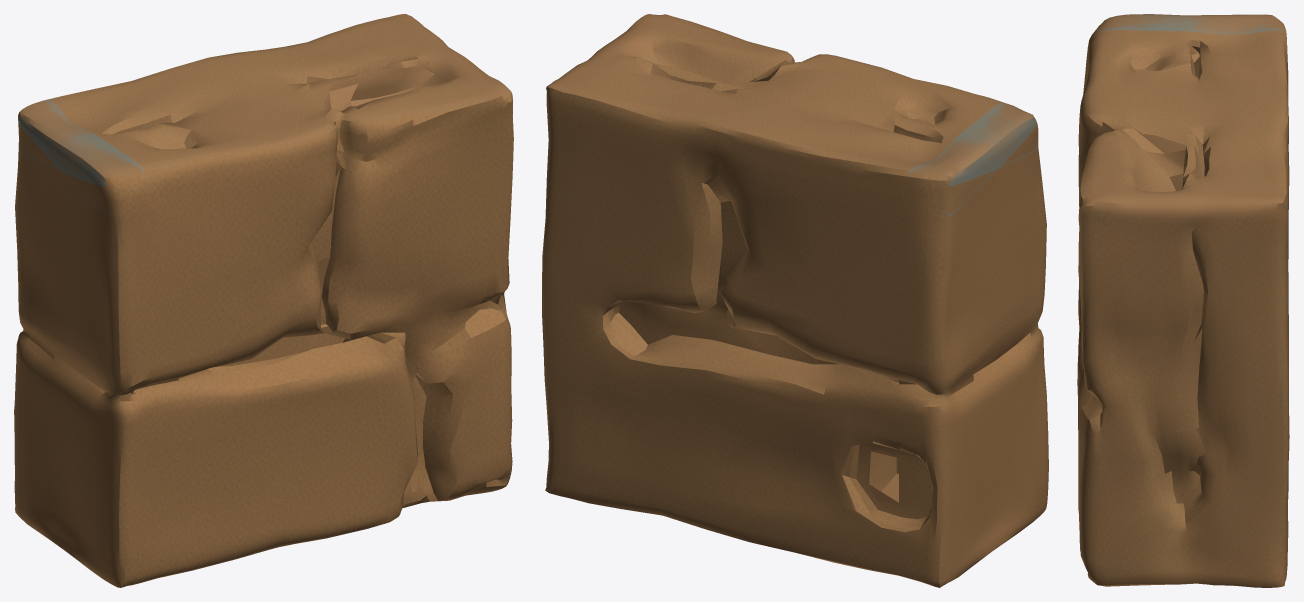
The model's file is brick_std_sandstone.glb.
3 renders of one model, left to right at view 1: azimuth 30°, elevation 25°; view 2: azimuth 150°, elevation 25°; view 3: azimuth 270°, elevation 25°, orthographic. The views are drawn at different scales.
Parts seen in each view (by area): view 1: Mesh_0; view 2: Mesh_0; view 3: Mesh_0.
Part boxes in pixels (<box>): Mesh_0: <box>14,14,513,587</box>; Mesh_0: <box>542,14,1048,587</box>; Mesh_0: <box>1077,14,1289,587</box>.
Bounding box in the file's own units: 1.9 × 1.84 × 0.904.
Materials: 1 (1 with a texture image).
